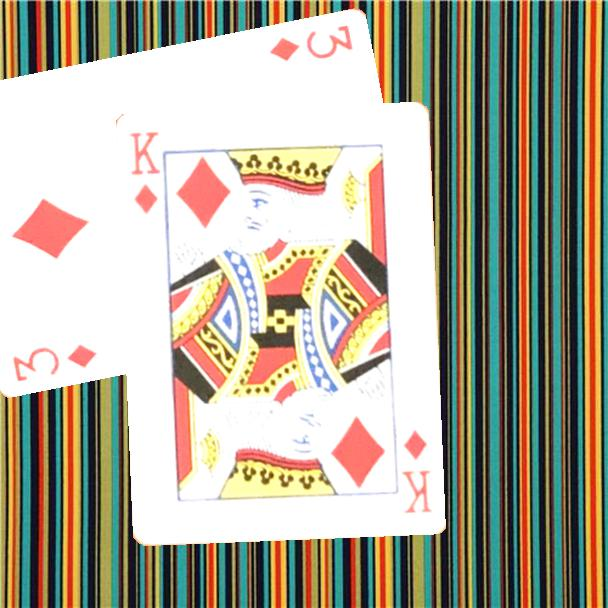d03: (9, 340, 100, 384), (266, 21, 356, 64)
d13: (126, 129, 164, 217), (398, 427, 435, 517)
